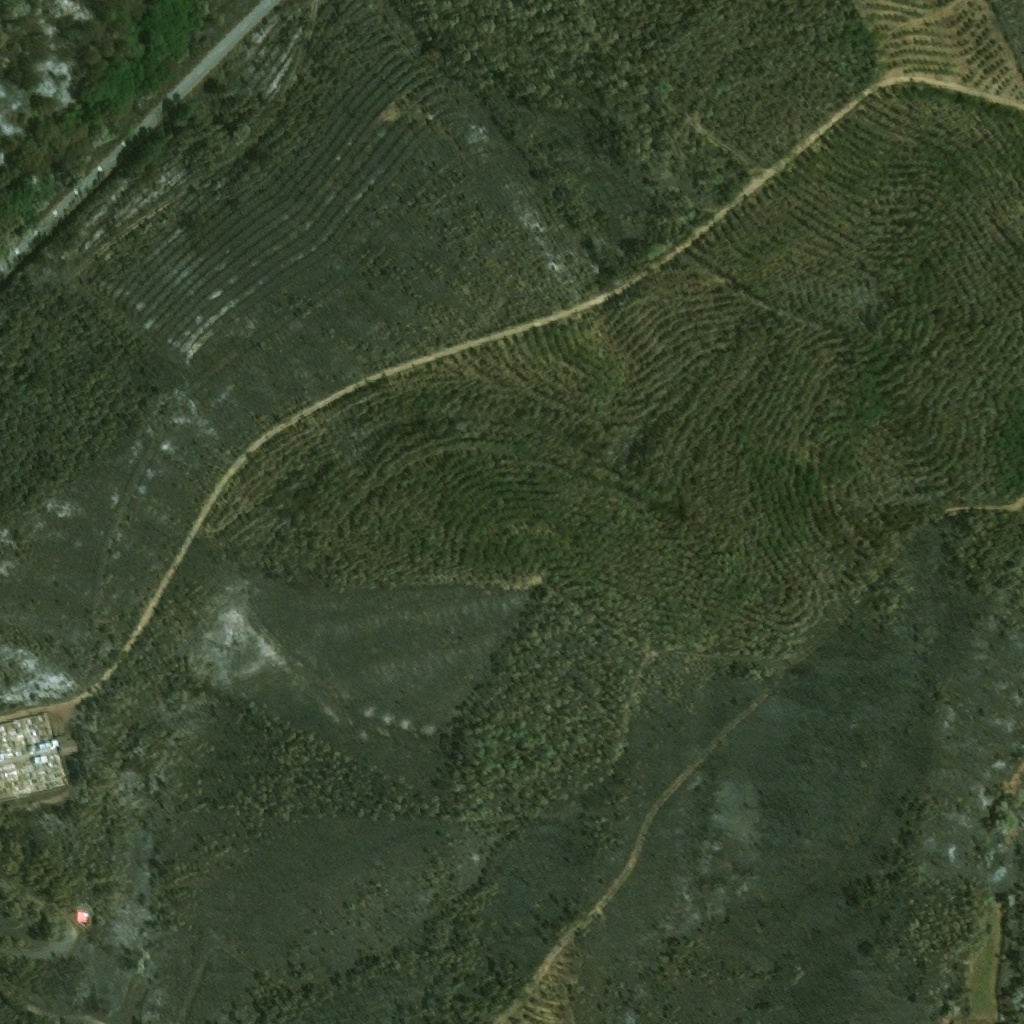0 no-damage: (54, 734, 79, 761)
1 minor-damage: (74, 901, 93, 929)
